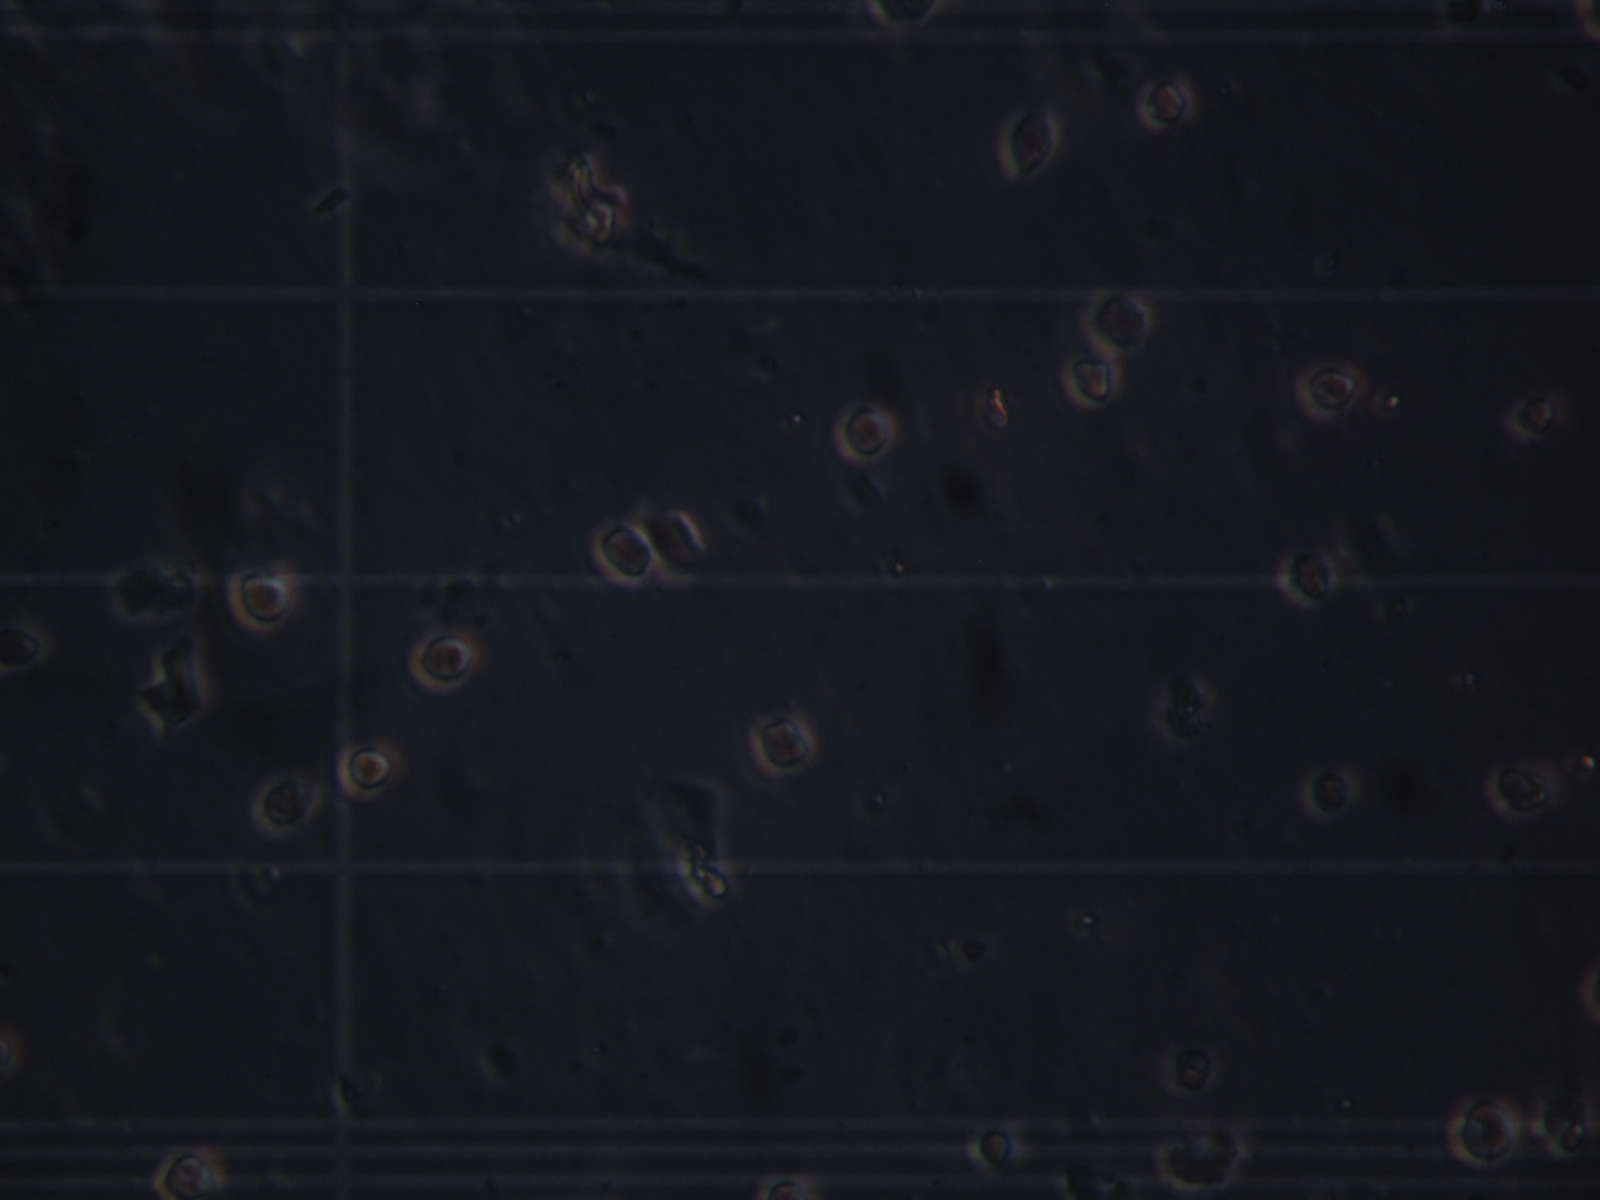hemo: (627, 503, 706, 587), (1448, 1093, 1519, 1168), (1080, 287, 1153, 359), (251, 768, 324, 837), (226, 565, 299, 634), (1482, 759, 1557, 822), (1294, 359, 1367, 424), (409, 629, 477, 696), (746, 712, 816, 776), (999, 110, 1060, 182), (593, 521, 656, 589), (152, 1146, 229, 1200), (834, 401, 896, 466), (1276, 546, 1338, 610), (339, 742, 404, 803), (1536, 1094, 1592, 1157), (1063, 357, 1125, 413), (1136, 76, 1196, 132), (1502, 392, 1563, 445), (1164, 1044, 1220, 1099), (1301, 764, 1356, 819), (969, 1123, 1022, 1174), (3, 621, 53, 671)
